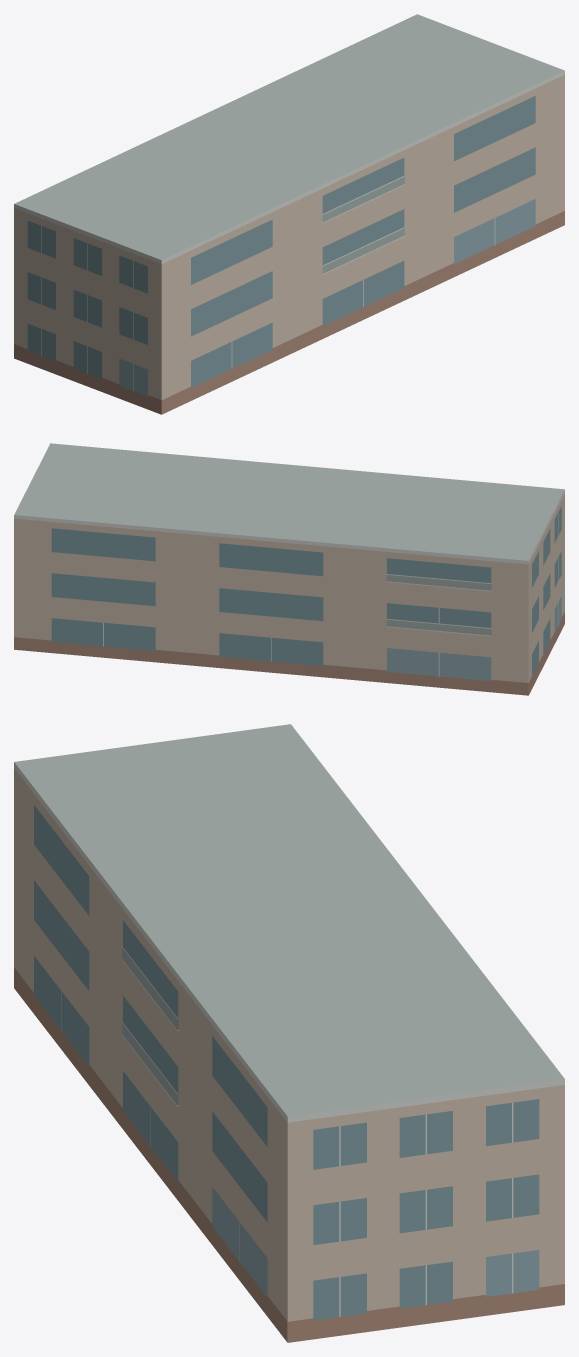
File: survey-upis-32974657.glb
3 views of the same model, one above another, from view 1: azimuth 30°, elevation 25°; view 2: azimuth 150°, elevation 25°; view 3: azimuth 270°, elevation 25° (orthographic). The views are drawn at different scales.
Parts seen in each view (by area): view 1: survey-upis-32974657.tmp; view 2: survey-upis-32974657.tmp; view 3: survey-upis-32974657.tmp.
Part boxes in pixels (x1=…): survey-upis-32974657.tmp: x1=14, y1=14, x2=564, y2=414; survey-upis-32974657.tmp: x1=14, y1=443, x2=564, y2=695; survey-upis-32974657.tmp: x1=14, y1=724, x2=564, y2=1342.
Bounding box in the file's own units: 34.07 × 9.15 × 20.2.
